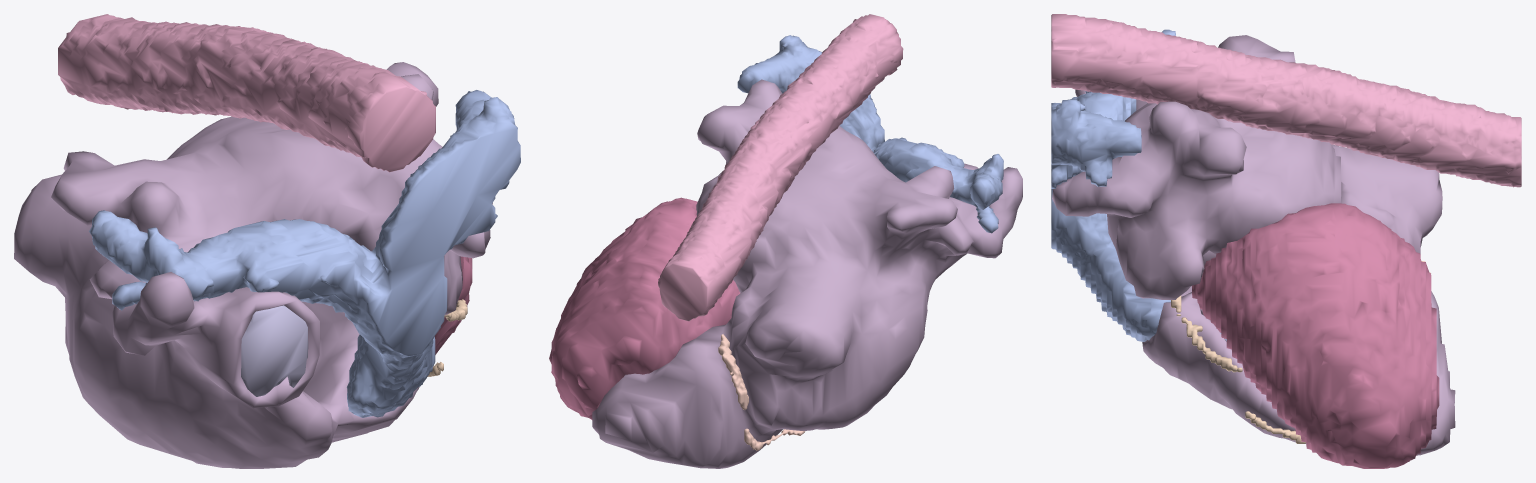
3 renders of one model, left to right at view 1: azimuth 30°, elevation 25°; view 2: azimuth 150°, elevation 25°; view 3: azimuth 270°, elevation 25°, orthographic. The views are drawn at different scales.
Parts seen in each view (by area): view 1: heart-wall, pulmonary-artery, aorta, right-atrium, myocardium; view 2: heart-wall, aorta, myocardium, pulmonary-artery, right-coronary-artery; view 3: heart-wall, myocardium, aorta, pulmonary-artery, left-coronary-artery.
Boxes of the visible parts, box(x1,y1,x2,y2) form: heart-wall: box(14, 62, 492, 468); pulmonary-artery: box(89, 90, 520, 417); aorta: box(58, 14, 435, 172); right-atrium: box(241, 305, 308, 396); myocardium: box(434, 256, 472, 354); heart-wall: box(592, 79, 1022, 468); aorta: box(658, 14, 903, 321); myocardium: box(549, 197, 740, 419); pulmonary-artery: box(737, 35, 1003, 233); right-coronary-artery: box(718, 334, 805, 450); heart-wall: box(1052, 35, 1455, 455); myocardium: box(1192, 203, 1439, 468); aorta: box(1051, 14, 1521, 187); pulmonary-artery: box(1051, 29, 1175, 341); left-coronary-artery: box(1171, 295, 1305, 443).
Bounding box in the file's own units: 137 × 130 × 142.
